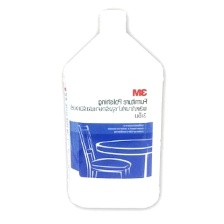cleaning_solution: (61, 7, 167, 209)
